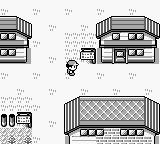leer: (80, 48, 96, 63), (17, 111, 32, 127)
main: (66, 61, 79, 75)
no-caminable: (64, 96, 159, 143), (96, 16, 159, 63), (0, 16, 32, 63), (0, 114, 15, 127)
puerta: (114, 50, 126, 63)
